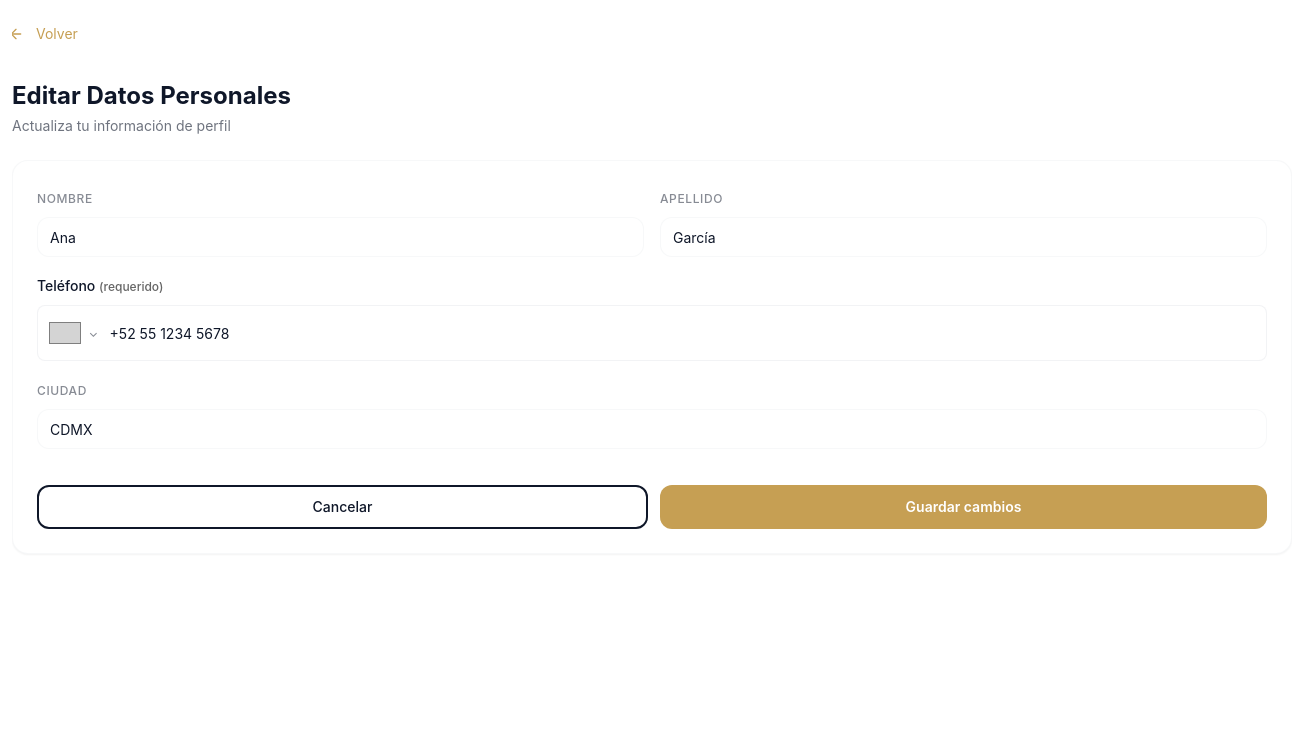
Test case: ClientProfileEditForm › updateProfile falla: muestra mensaje de error del backend
Click the button "Guardar cambios" at coordinates (964, 507), box x1=660 y1=485 x2=1267 y2=529
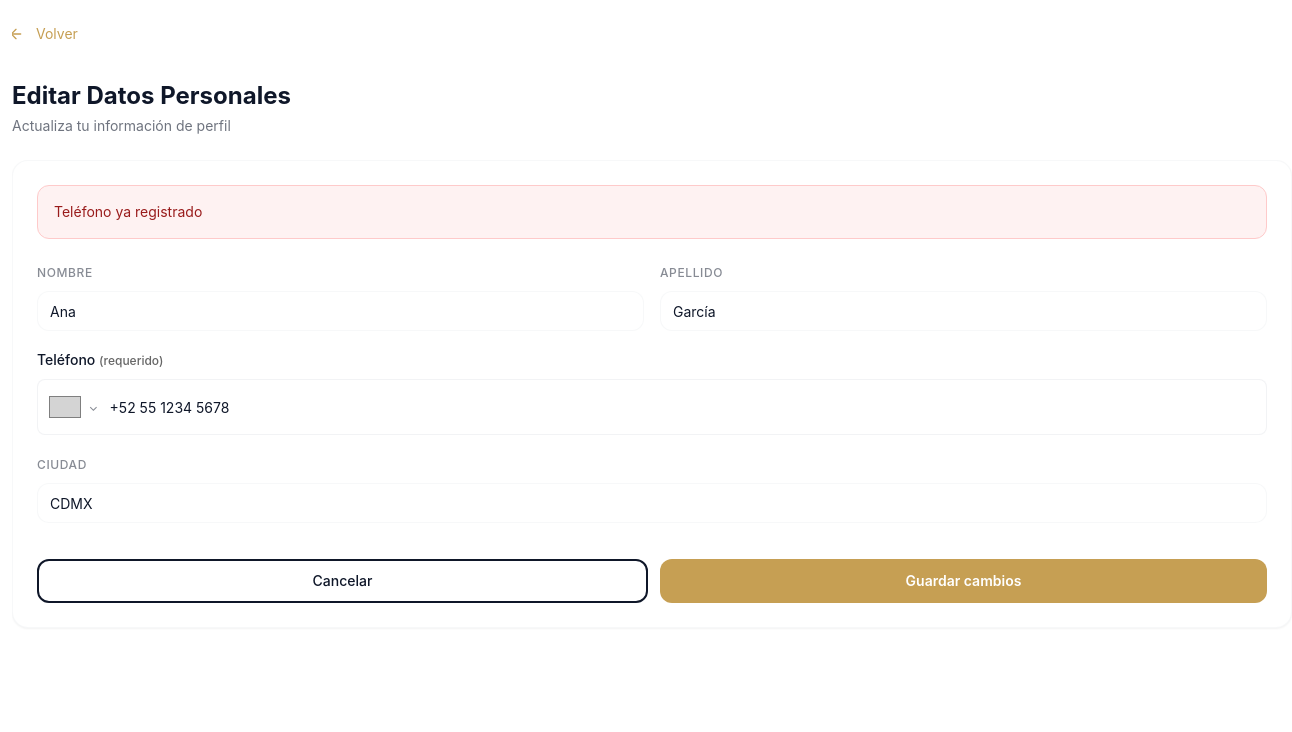
Expected: the message reads "Teléfono ya registrado", x1=54 y1=203 x2=202 y2=220
